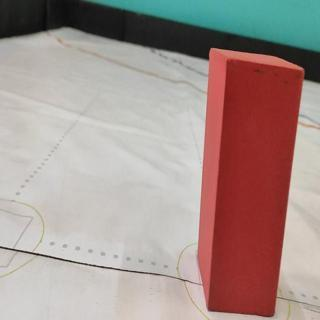redbox: (194, 47, 305, 318)
